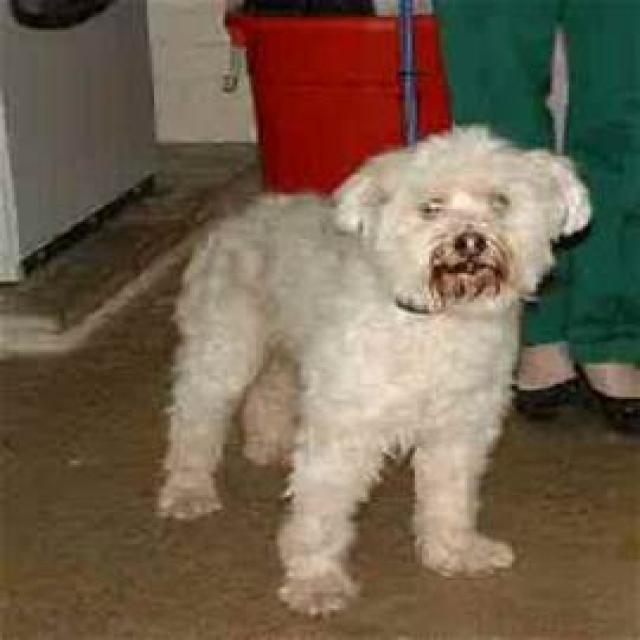KOPEK: (141, 119, 570, 614)
